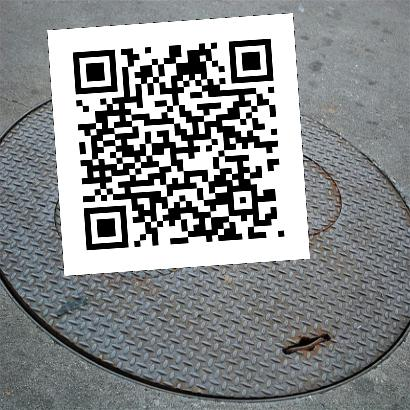qr_code: (47, 13, 309, 275)
